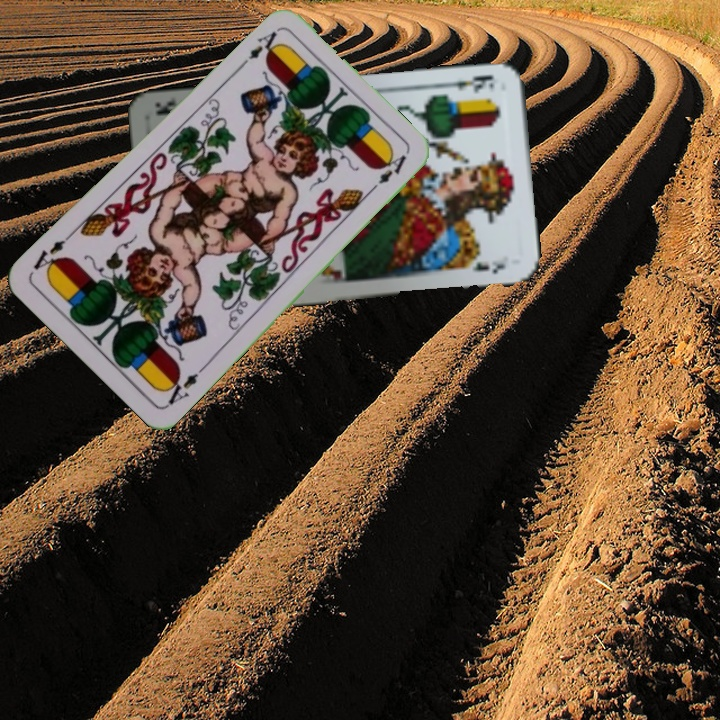EA: (159, 361, 208, 409), (233, 27, 280, 73)
EK: (441, 70, 500, 95)
